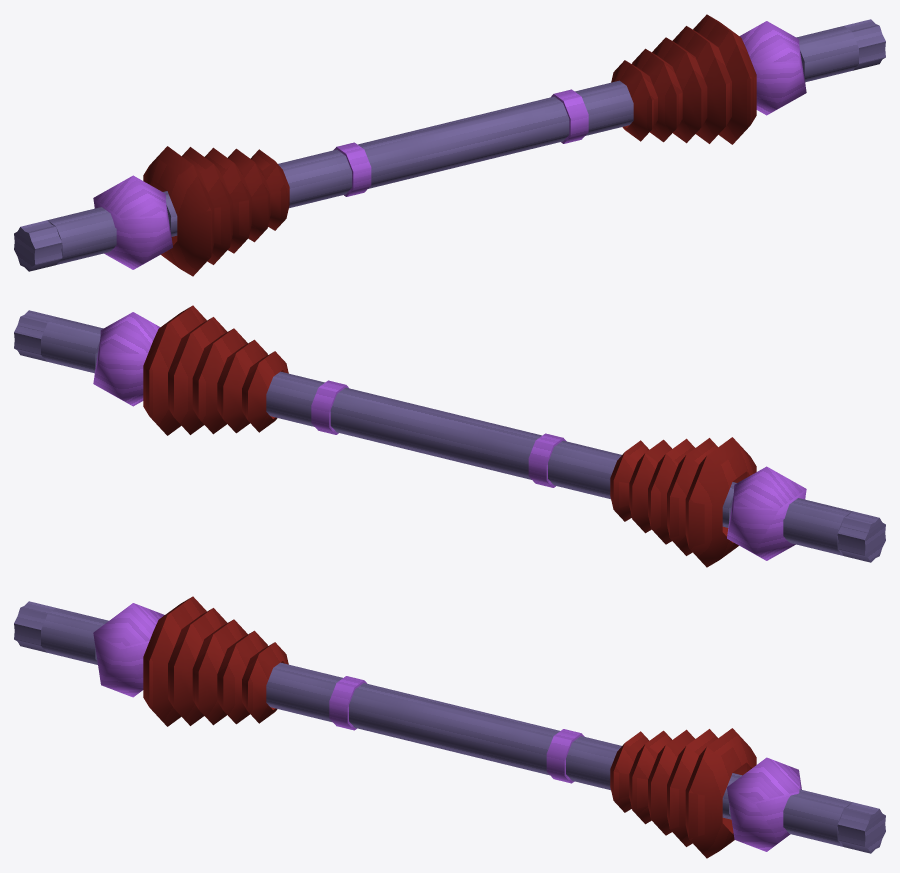
Rendered from semieixos_n5.glb.
3 views of the same model, one above another, from view 1: azimuth 30°, elevation 25°; view 2: azimuth 150°, elevation 25°; view 3: azimuth 330°, elevation 25° (orthographic).
Visible parts, largest first — view 1: semieixos_n5; view 2: semieixos_n5; view 3: semieixos_n5.
Part boxes in pixels (x1,y1,x2,y2): semieixos_n5: (14,14,885,276); semieixos_n5: (14,305,885,567); semieixos_n5: (14,596,885,858).
Bounding box in the file's own units: 0.94 × 0.1183 × 0.1183.
3 materials, 3 textured.
